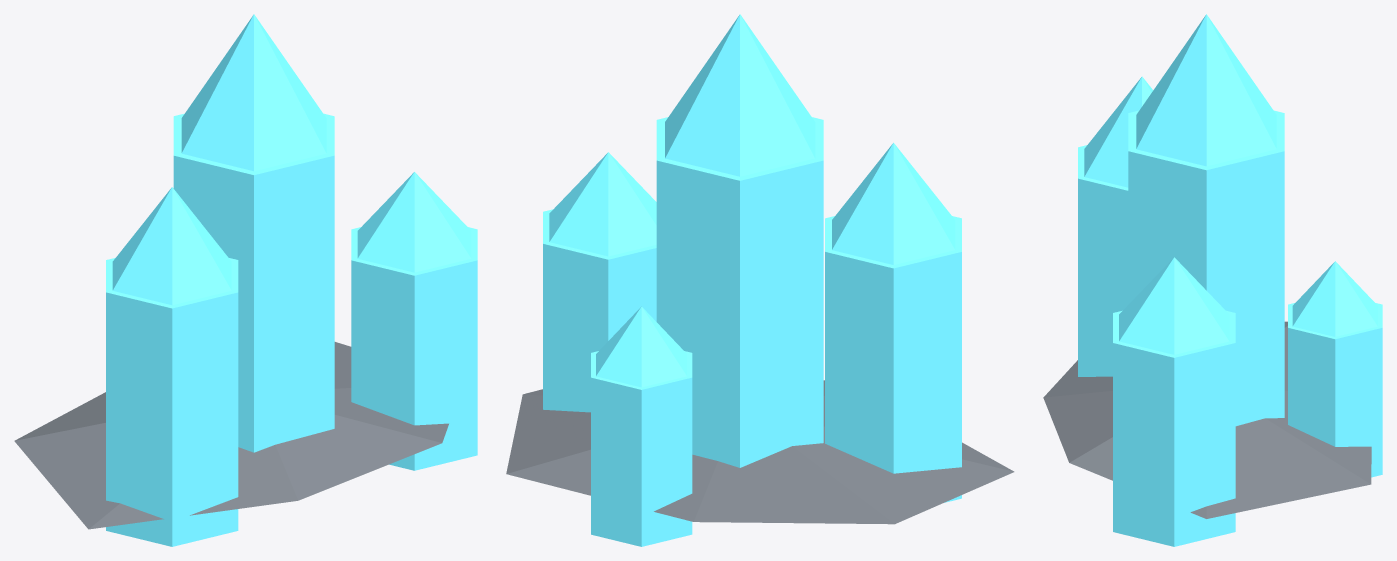
The model's file is cave_crystals_cyan.glb.
3 renders of one model, left to right at view 1: azimuth 30°, elevation 25°; view 2: azimuth 150°, elevation 25°; view 3: azimuth 270°, elevation 25°, orthographic. The views are drawn at different scales.
Parts seen in each view (by area): view 1: cave_crystals_cyan_Mesh; view 2: cave_crystals_cyan_Mesh; view 3: cave_crystals_cyan_Mesh.
Boxes of the visible parts, x1=… form: cave_crystals_cyan_Mesh: x1=14, y1=14, x2=477, y2=546; cave_crystals_cyan_Mesh: x1=506, y1=14, x2=1014, y2=546; cave_crystals_cyan_Mesh: x1=1043, y1=14, x2=1382, y2=546.
Size of the model in its own units: 1.48 by 1.5 by 1.05.
